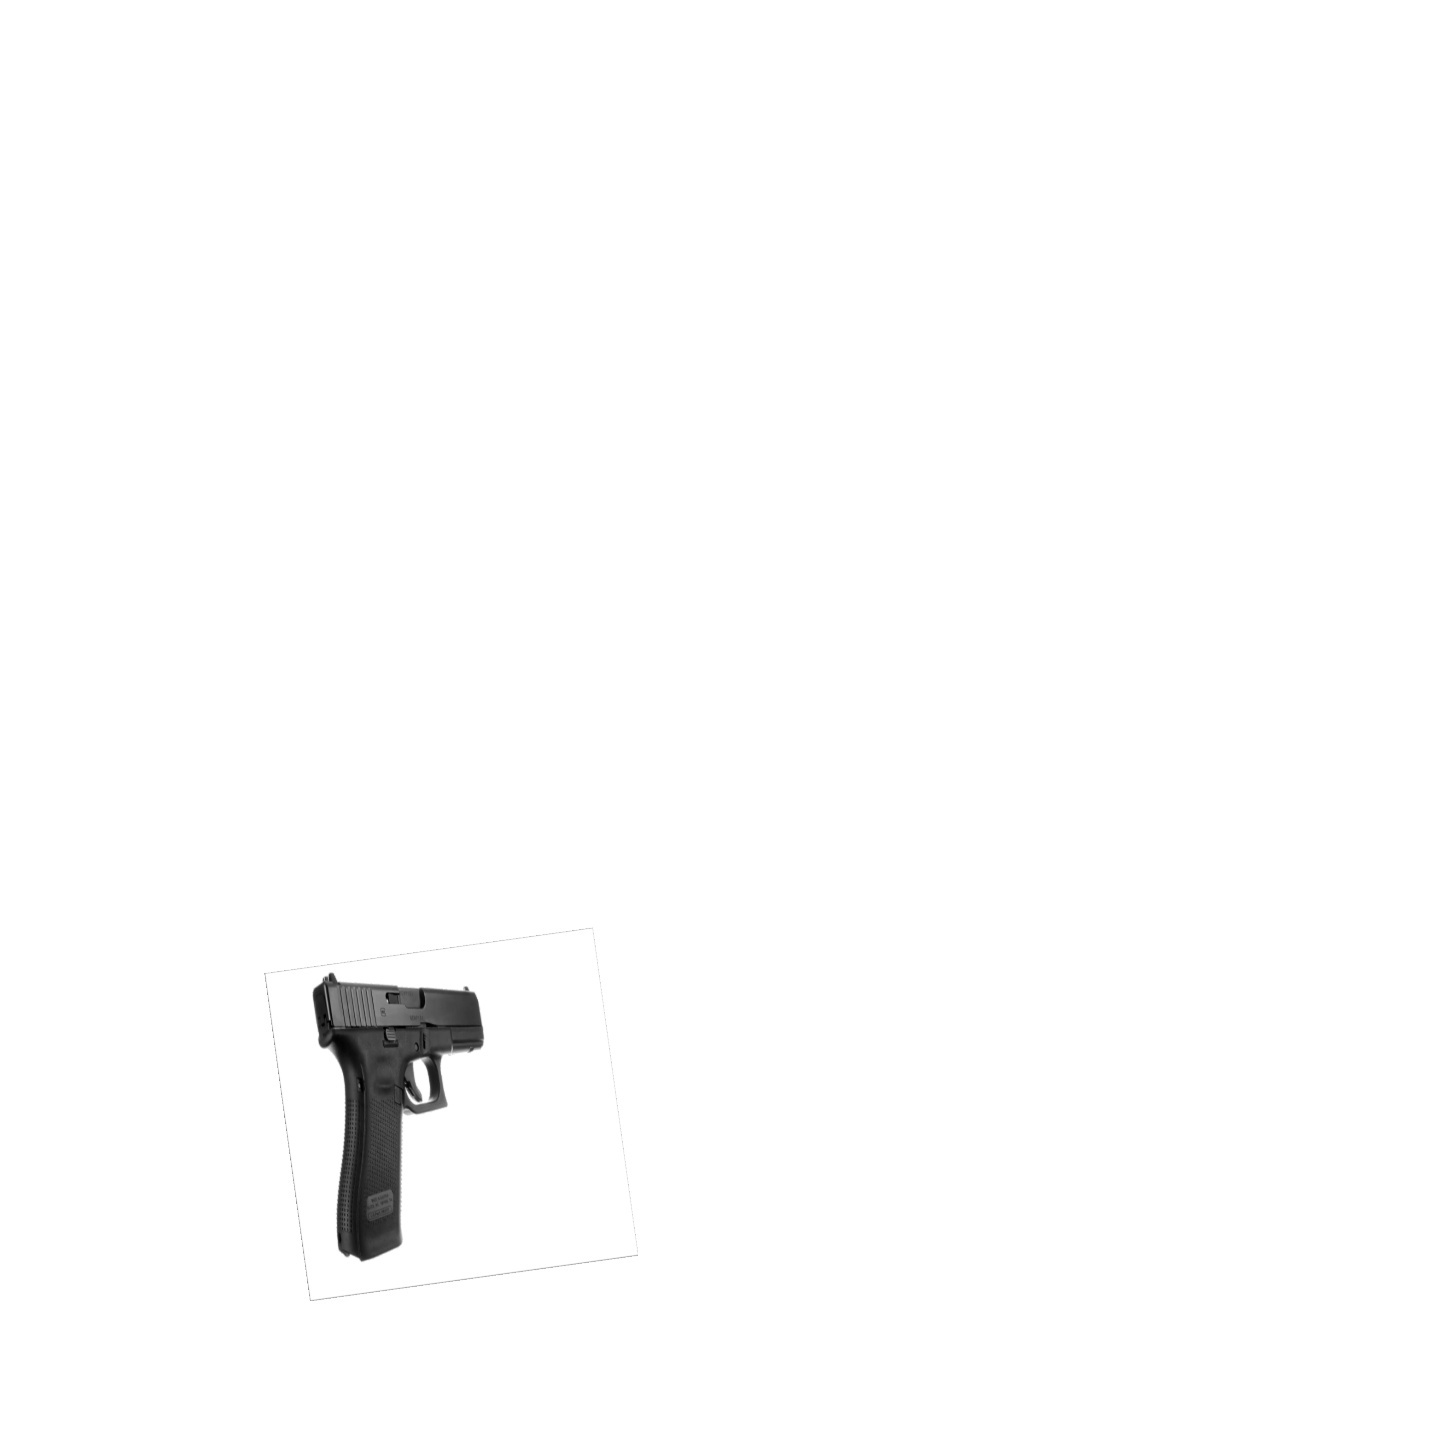gun: (313, 971, 483, 1260)
